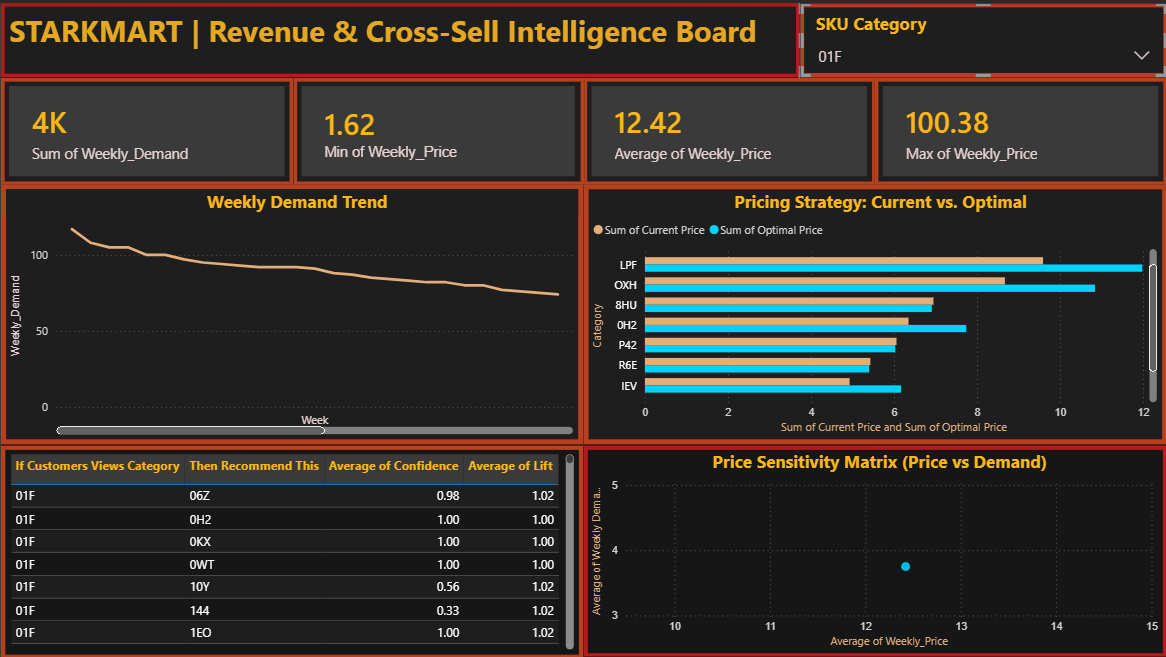

This screenshot's page, from the dashboard's own definition file:
{"tool":"powerbi","page":{"name":"Page 1","canvas":[1280,720],"ordinal":0},"visuals":[{"type":"textbox","box":[0,0,876.6,81.7],"z":0},{"type":"slicer","fields":{"Values":["cleaned_dataset.SKU_Category"]},"box":[876.6,0,403.7,81.7],"z":1000},{"type":"cardVisual","fields":{"Data":["Sum(cleaned_dataset.Weekly_Demand)"]},"box":[0,81.7,320.5,117.8],"z":2000},{"type":"cardVisual","fields":{"Data":["Avg(cleaned_dataset.Weekly_Price)"]},"box":[639.4,81.7,320.5,117.8],"z":3000},{"type":"cardVisual","fields":{"Data":["Max(cleaned_dataset.Weekly_Price)"]},"box":[959.8,81.7,320.5,117.8],"z":4000},{"type":"cardVisual","fields":{"Data":["Min(cleaned_dataset.Weekly_Price)"]},"box":[320.5,81.7,318.9,117.8],"z":5000},{"type":"lineChart","title":"Weekly Demand Trend","fields":{"Category":["cleaned_dataset.Year_Week"],"Y":["Sum(cleaned_dataset.Weekly_Demand)"]},"box":[0,199.5,639.4,285.9],"z":5001},{"type":"clusteredBarChart","title":"Pricing Strategy: Current vs. Optimal","fields":{"Category":["starkmart_pricing_optimization.Category"],"Y":["Sum(starkmart_pricing_optimization.Current Price)","Sum(starkmart_pricing_optimization.Optimal Price)"]},"box":[639.4,199.5,640.9,285.9],"z":5002},{"type":"tableEx","fields":{"Values":["starkmart_recommendation_rules.antecedents","starkmart_recommendation_rules.consequents","Avg(starkmart_recommendation_rules.confidence)","Avg(starkmart_recommendation_rules.lift)"]},"box":[0,485.4,639.4,234.1],"z":5003},{"type":"scatterChart","title":"Price Sensitivity Matrix (Price vs Demand)","fields":{"X":["Avg(cleaned_dataset.Weekly_Price)"],"Y":["Avg(cleaned_dataset.Weekly_Demand)"],"Category":["cleaned_dataset.SKU_Category"]},"box":[639,486,641,233],"z":5004}]}

Visuals, with their boxes in screenshot pixels (x1, y1, x2, y2), scaled from the page's 1280x720 canvas onto the 1166x657 screenshot:
textbox: bbox(0, 0, 799, 75)
slicer - cleaned_dataset.SKU_Category: bbox(799, 0, 1165, 75)
cardVisual - Sum(cleaned_dataset.Weekly_Demand): bbox(0, 75, 292, 182)
cardVisual - Avg(cleaned_dataset.Weekly_Price): bbox(582, 75, 874, 182)
cardVisual - Max(cleaned_dataset.Weekly_Price): bbox(874, 75, 1165, 182)
cardVisual - Min(cleaned_dataset.Weekly_Price): bbox(292, 75, 582, 182)
"Weekly Demand Trend" lineChart: bbox(0, 182, 582, 443)
"Pricing Strategy: Current vs. Optimal" clusteredBarChart: bbox(582, 182, 1165, 443)
tableEx - starkmart_recommendation_rules.antecedents x starkmart_recommendation_rules.consequents: bbox(0, 443, 582, 656)
"Price Sensitivity Matrix (Price vs Demand)" scatterChart: bbox(582, 443, 1165, 656)
